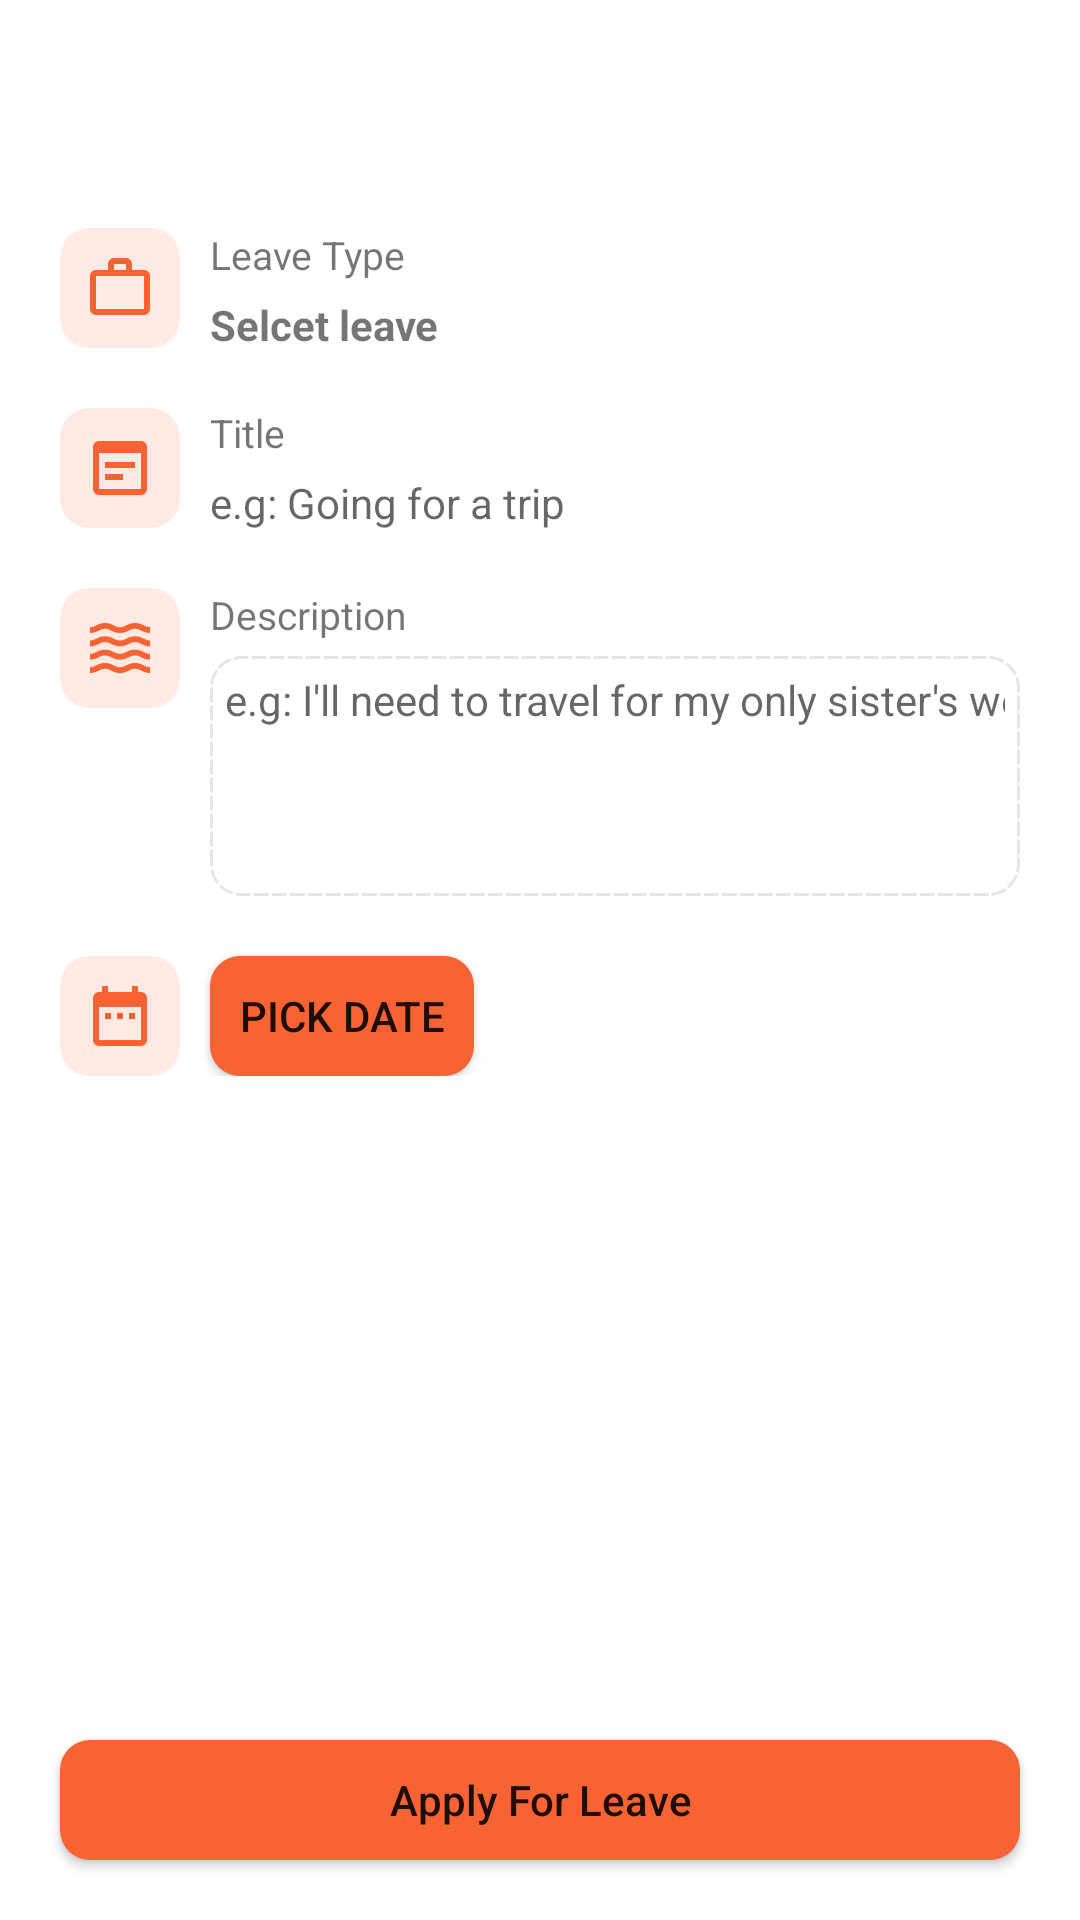

Screen size 1080px x 1920px. Icon name, then its center in pixels as point (x, y):
waves: point (120, 648)
work: point (120, 288)
